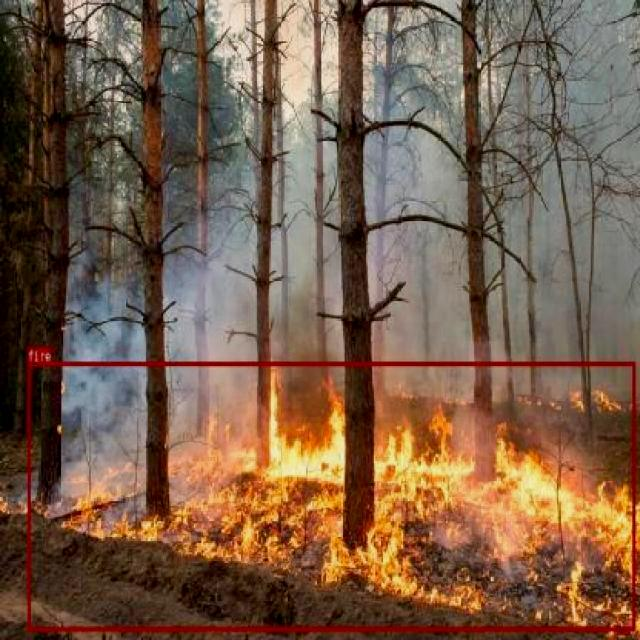fire: (27, 362, 635, 630)
